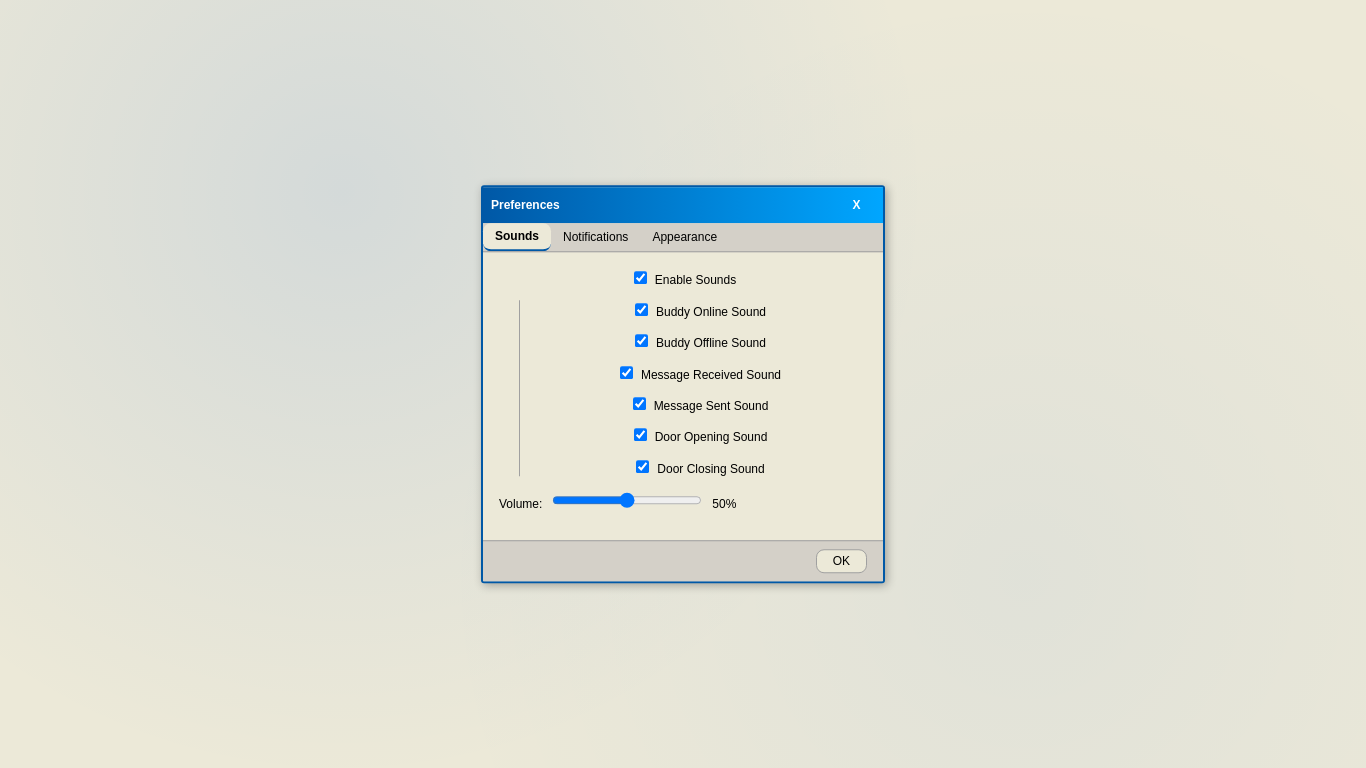
Test case: PreferencesWindow › should switch to appearance tab when clicked
Click the button "Appearance".
click(685, 238)  # box [640,224,729,252]
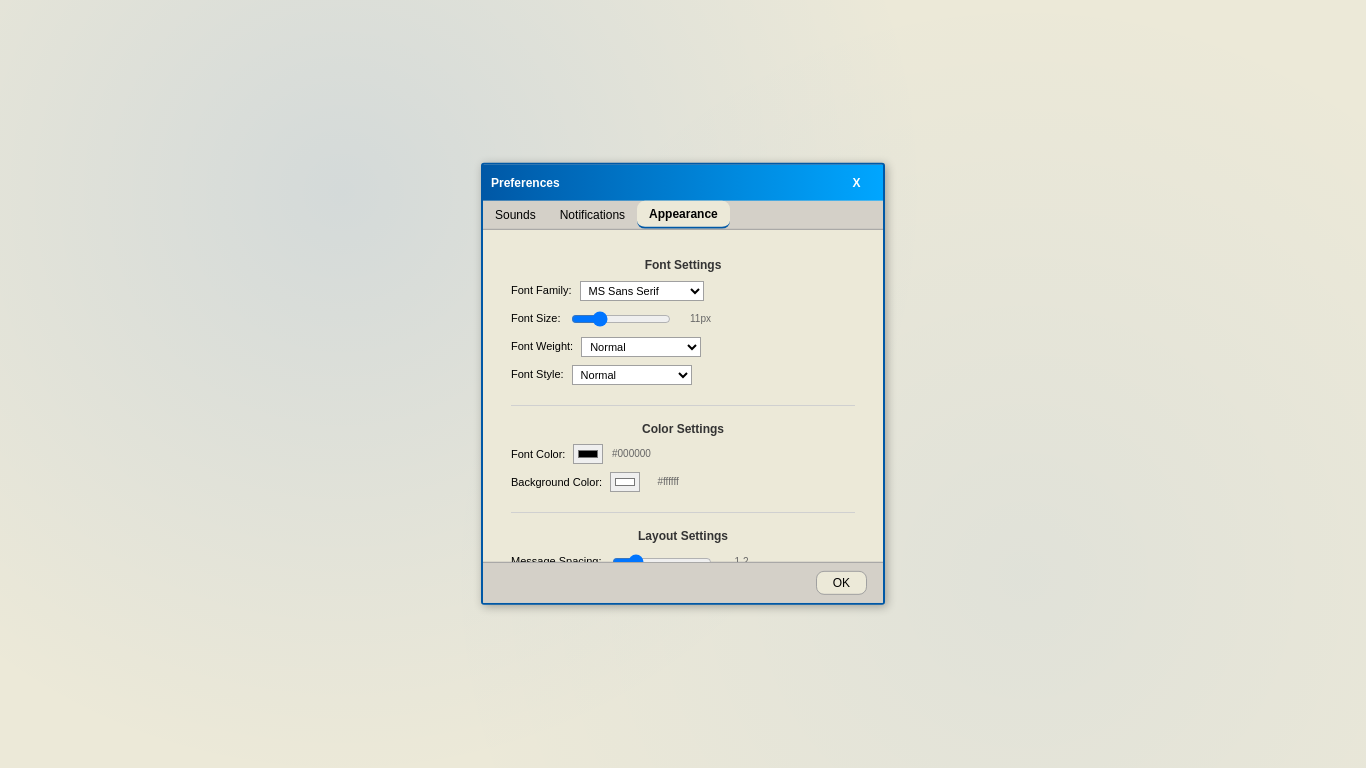
Check: the heading "Font Settings" is shown, box [645,258,721,272]
Check: the heading "Color Settings" is shown, box [642,422,724,436]
Check: the heading "Layout Settings" is shown, box [638,529,728,543]
